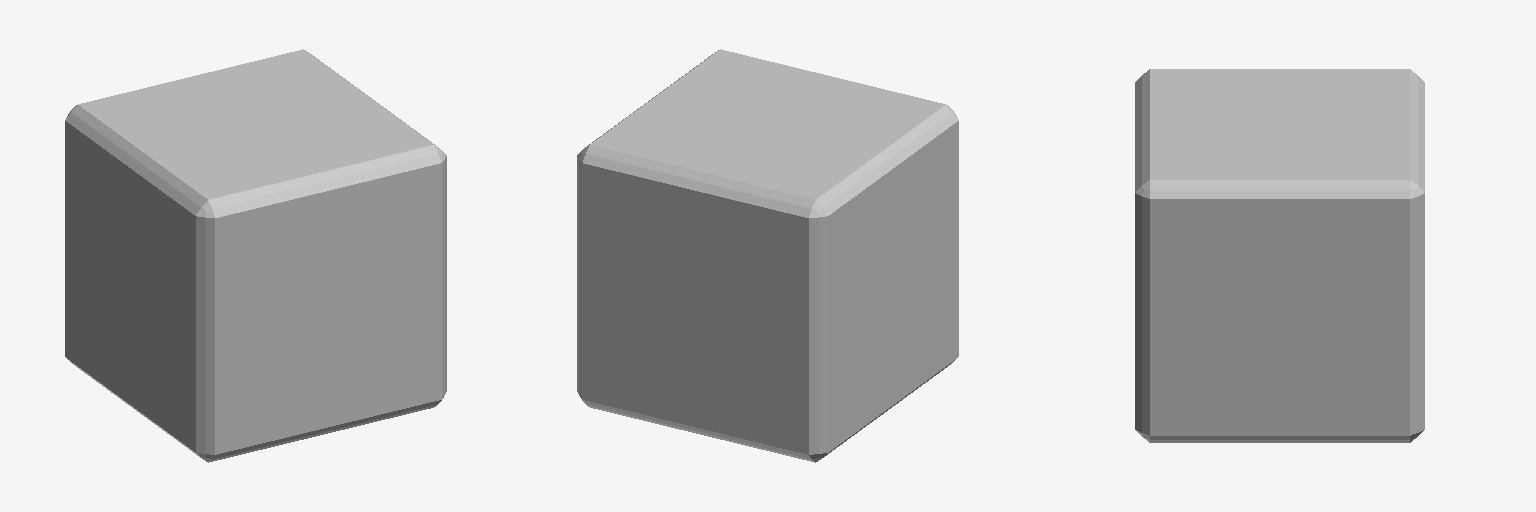
File: TempleStone_1x1.obj
The picture shows the model from 3 angles: view 1: azimuth 30°, elevation 25°; view 2: azimuth 150°, elevation 25°; view 3: azimuth 270°, elevation 25°; orthographic projection.
Parts seen in each view (by area): view 1: TempleStone_1x1; view 2: TempleStone_1x1; view 3: TempleStone_1x1.
Part boxes in pixels (bbox=[...]): TempleStone_1x1: bbox=[65, 49, 446, 462]; TempleStone_1x1: bbox=[577, 49, 958, 462]; TempleStone_1x1: bbox=[1135, 69, 1424, 442].
Size of the model in its own units: 1 by 1 by 1.